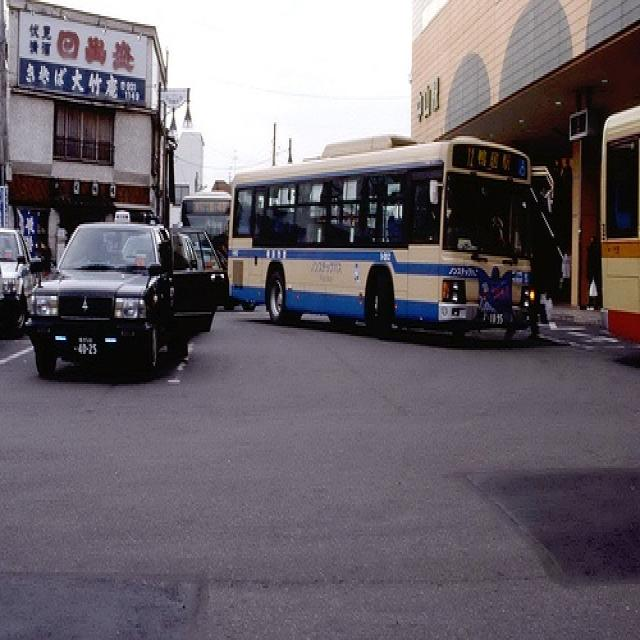bus: (225, 130, 535, 330), (600, 98, 639, 346)
car: (27, 218, 224, 386), (1, 222, 36, 336)
